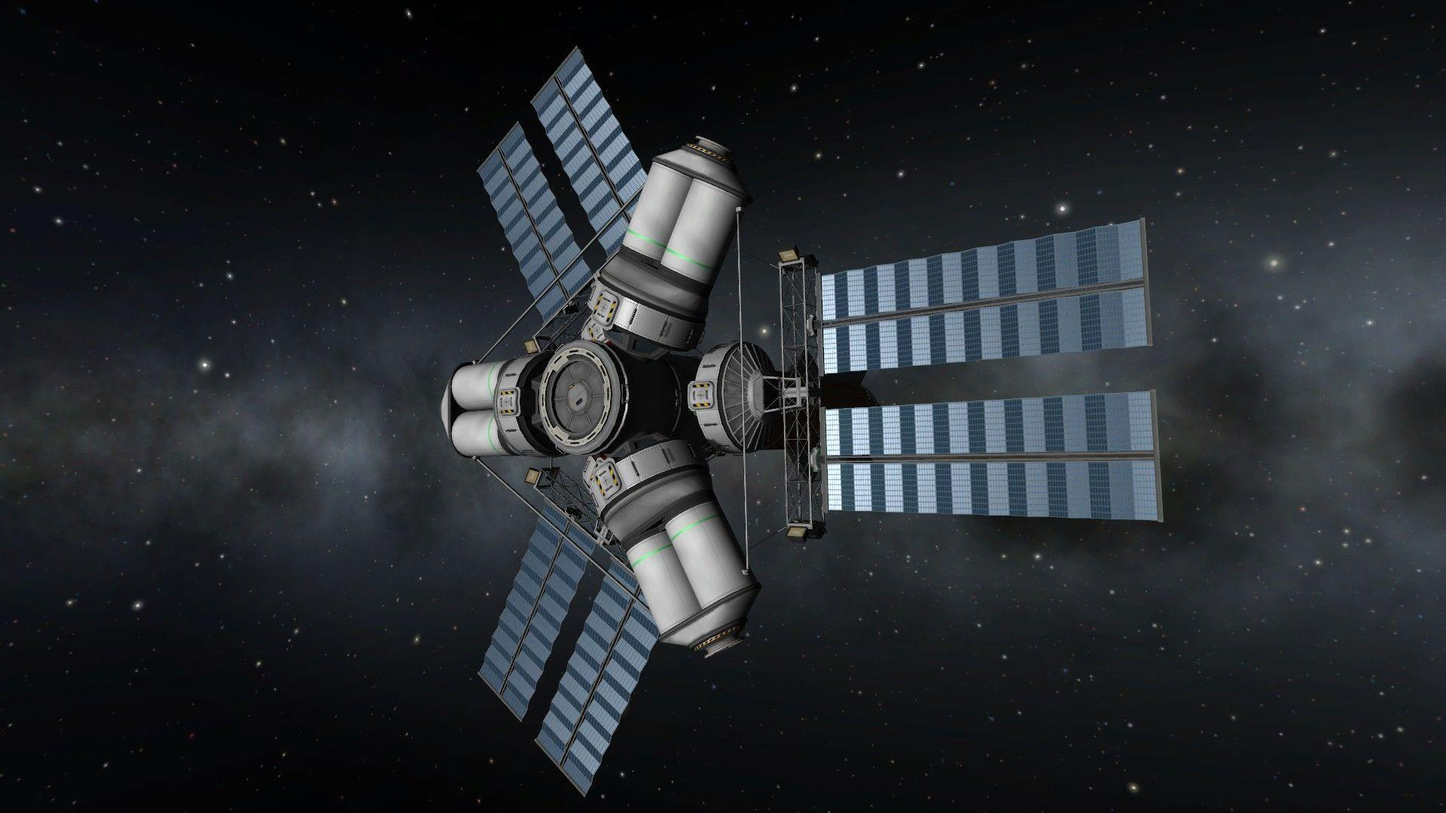solar: (774, 215, 1169, 545), (474, 495, 661, 800), (477, 41, 660, 323)
